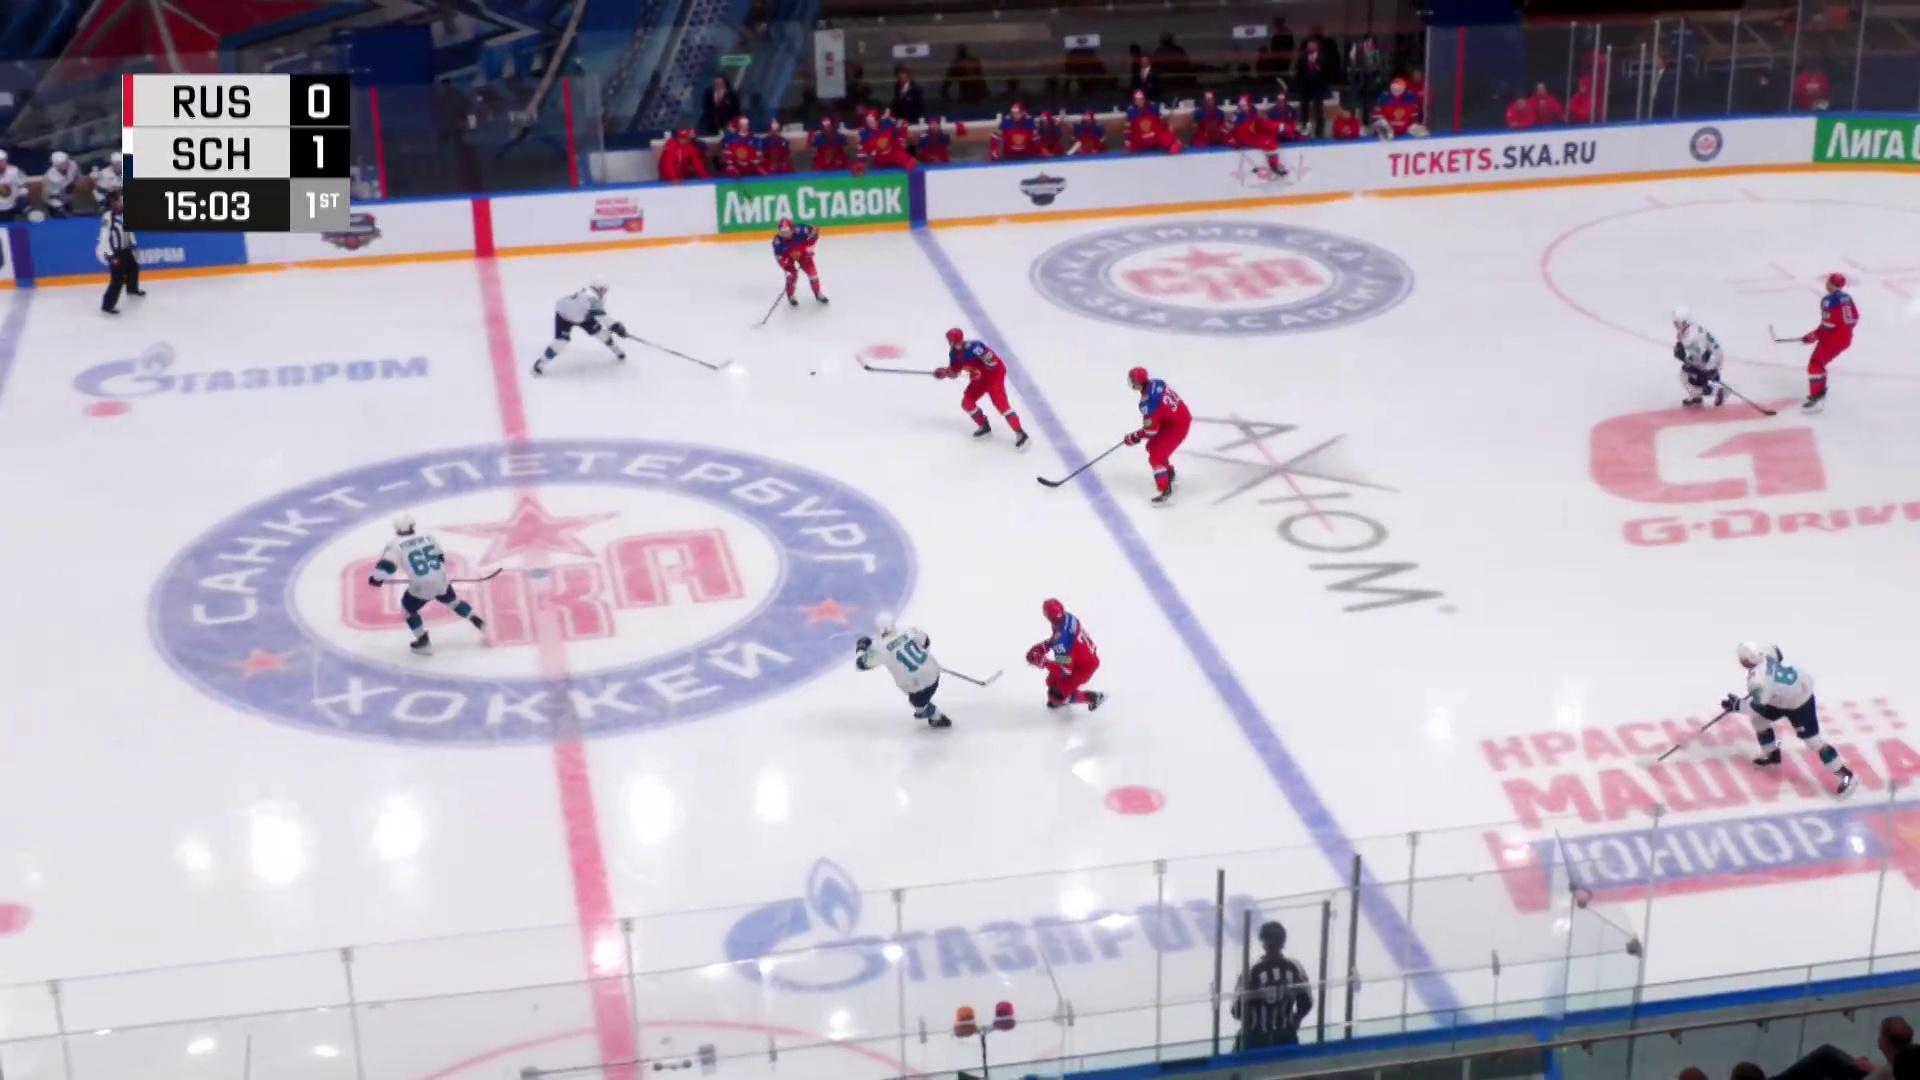ball: (808, 372, 816, 376)
